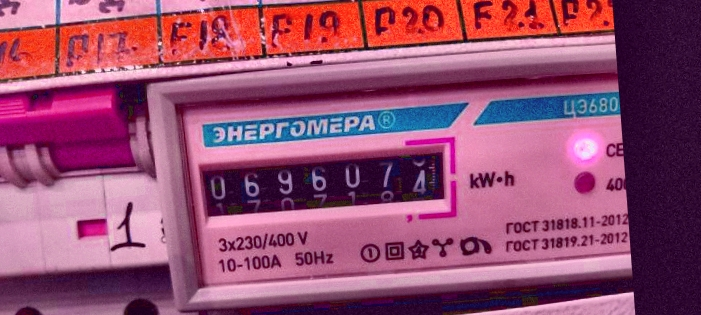0: (206, 172, 229, 201), (342, 159, 363, 189), (242, 170, 261, 197)
4: (409, 167, 428, 196)
6: (308, 162, 328, 193)
7: (375, 158, 396, 188)
9: (275, 166, 295, 195)
screen: (183, 132, 463, 236)
